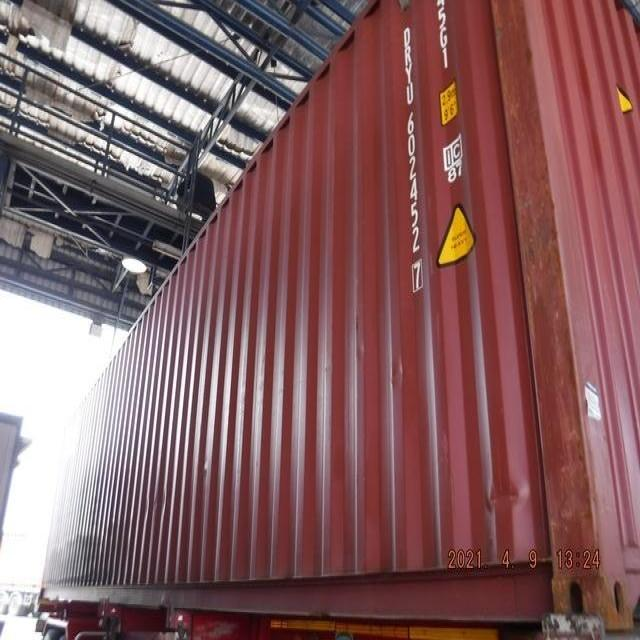dent: (464, 468, 540, 525), (390, 356, 406, 389)
